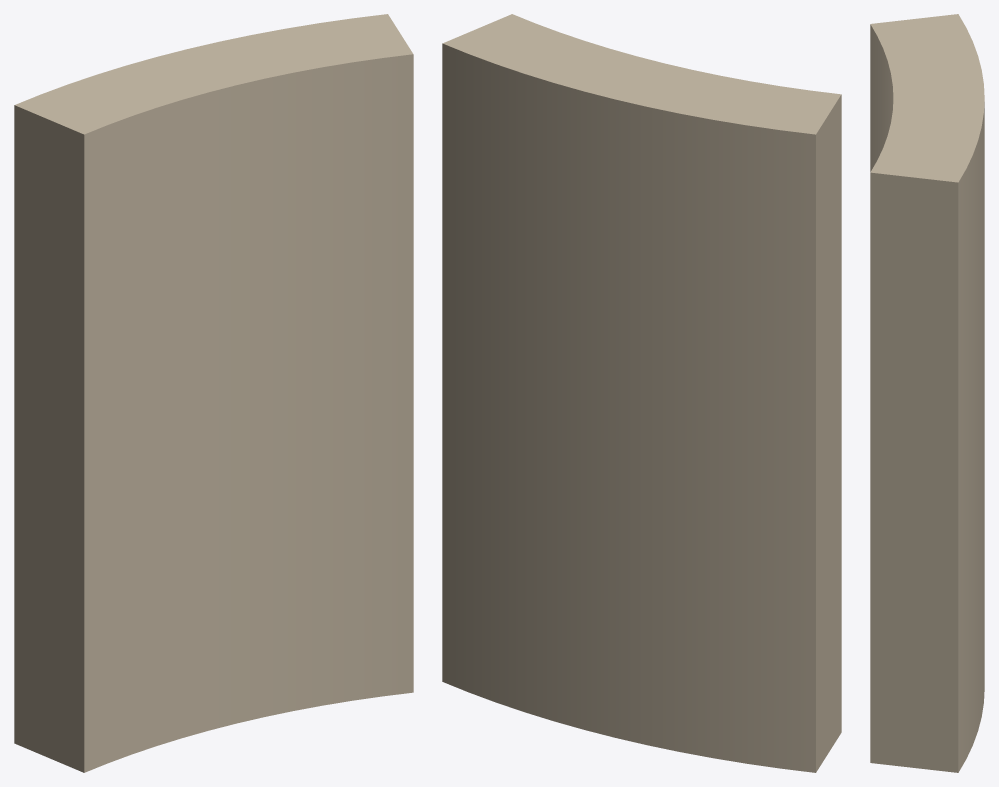
Rendered from Furn_Tower3_R35_Plain.fbx.
The picture shows the model from 3 angles, left to right: view 1: azimuth 30°, elevation 25°; view 2: azimuth 150°, elevation 25°; view 3: azimuth 270°, elevation 25°; orthographic projection. The views are drawn at different scales.
Visible parts, largest first — view 1: Furn_Tower3_R35_Plain; view 2: Furn_Tower3_R35_Plain; view 3: Furn_Tower3_R35_Plain.
Boxes of the visible parts, <box> form: Furn_Tower3_R35_Plain: <box>14,14,413,772</box>; Furn_Tower3_R35_Plain: <box>442,14,841,772</box>; Furn_Tower3_R35_Plain: <box>870,14,984,772</box>.
Size of the model in its own units: 2.14 by 3.5 by 0.6144.
